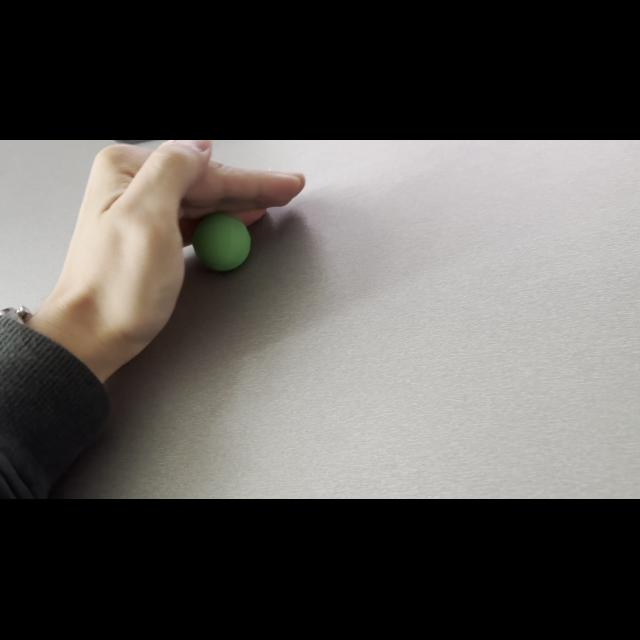objects: (191, 210, 255, 274)
